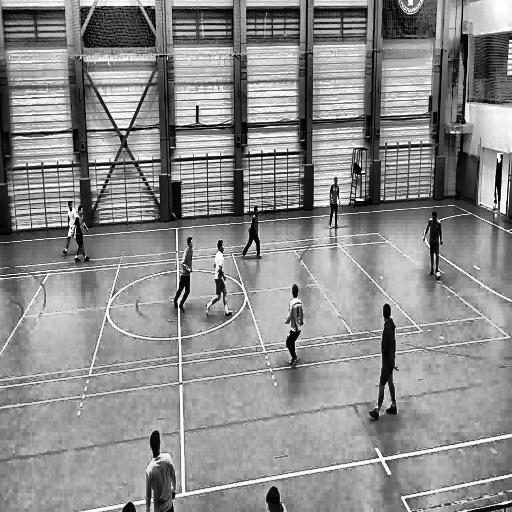ball: (434, 270, 442, 281)
player: (368, 303, 400, 423), (204, 240, 234, 320), (284, 284, 304, 371), (173, 236, 194, 314), (422, 210, 444, 278), (240, 205, 263, 262), (63, 199, 84, 255), (72, 206, 90, 265), (329, 178, 342, 230)
